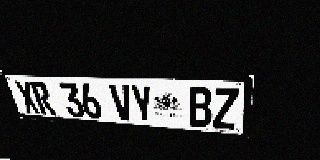3: (58, 82, 86, 118)
6: (76, 83, 103, 119)
B: (188, 87, 212, 128)
R: (29, 81, 57, 115)
V: (109, 84, 135, 122)
X: (13, 81, 41, 114)
Y: (129, 85, 155, 123)
Z: (213, 87, 239, 130)
